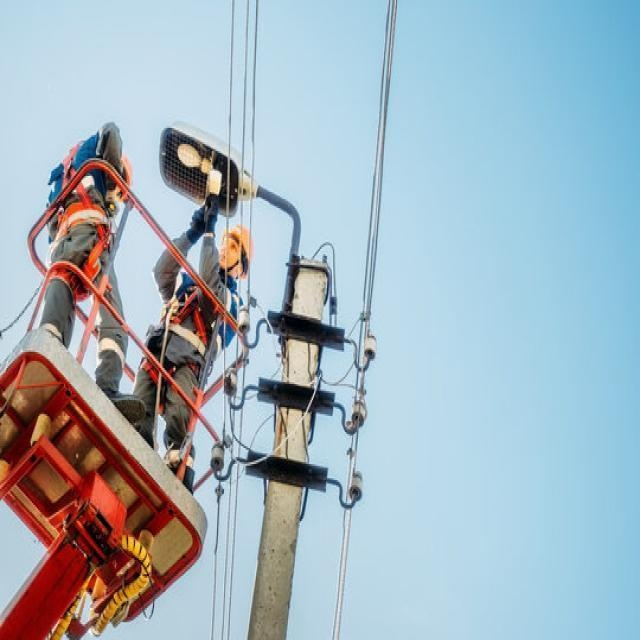Arnes_seguridad: (139, 279, 231, 388), (52, 142, 109, 302)
